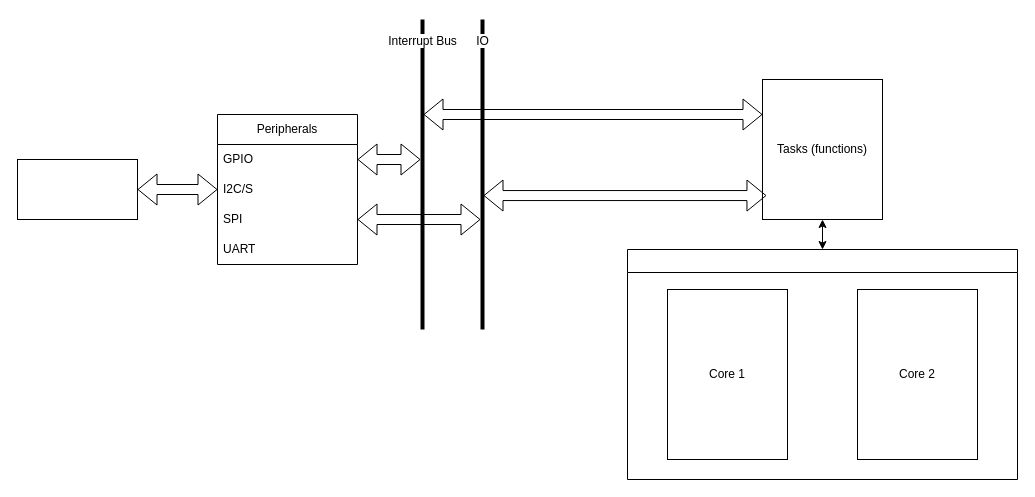
Some shapes in this 1035 by 497 pixel diagram are drawn without their labels. Here are the shapes that lost their labels. From the top down, the box of each, then its label:
(16, 158, 138, 220): External Devices
(626, 248, 1018, 480): FreeRTOS
